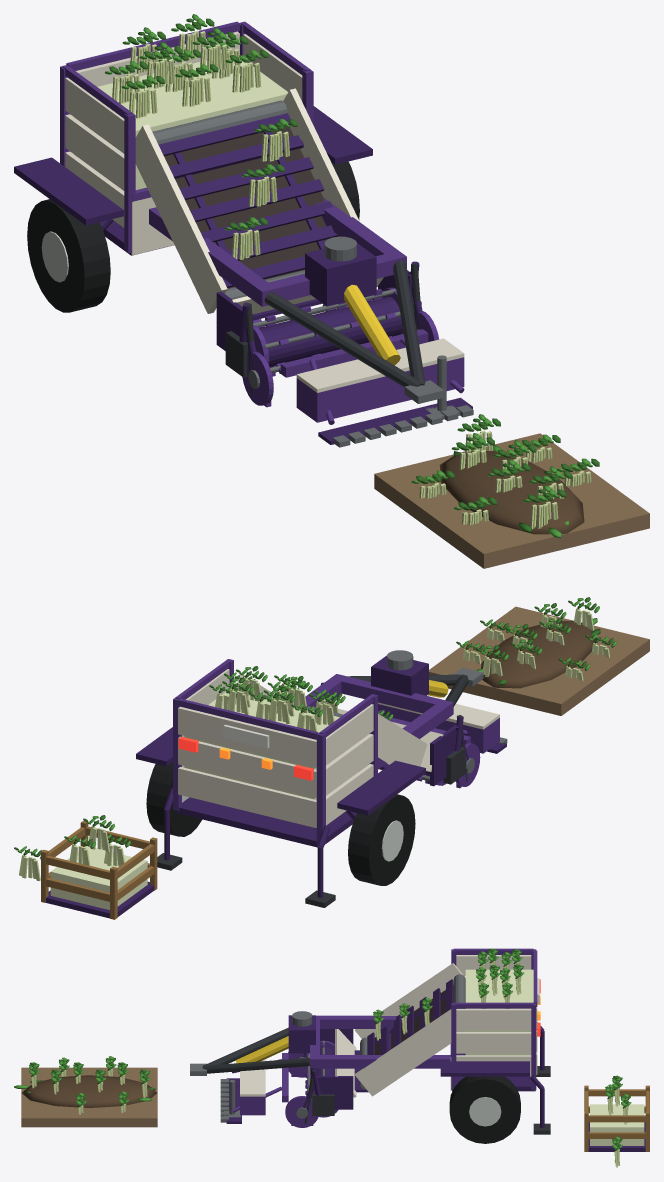
The model's file is celery_harvester.glb.
3 views of the same model, one above another, from view 1: azimuth 30°, elevation 25°; view 2: azimuth 150°, elevation 25°; view 3: azimuth 270°, elevation 25° (orthographic). The views are drawn at different scales.
Visible parts, largest first — view 1: CeleryBody, CeleryProps, CeleryPickup; view 2: CeleryBody, CeleryProps; view 3: CeleryBody, CeleryProps, CeleryPickup.
Part boxes in pixels (x1,y1,x2,y2): CeleryBody: [14, 14, 473, 447]; CeleryProps: [374, 414, 649, 568]; CeleryPickup: [253, 287, 403, 376]; CeleryBody: [136, 650, 507, 907]; CeleryProps: [14, 597, 649, 919]; CeleryBody: [190, 948, 550, 1143]; CeleryProps: [14, 1056, 649, 1167]; CeleryPickup: [305, 1040, 338, 1117].
Size of the model in its own units: 3.1 by 1.87 by 7.47.
